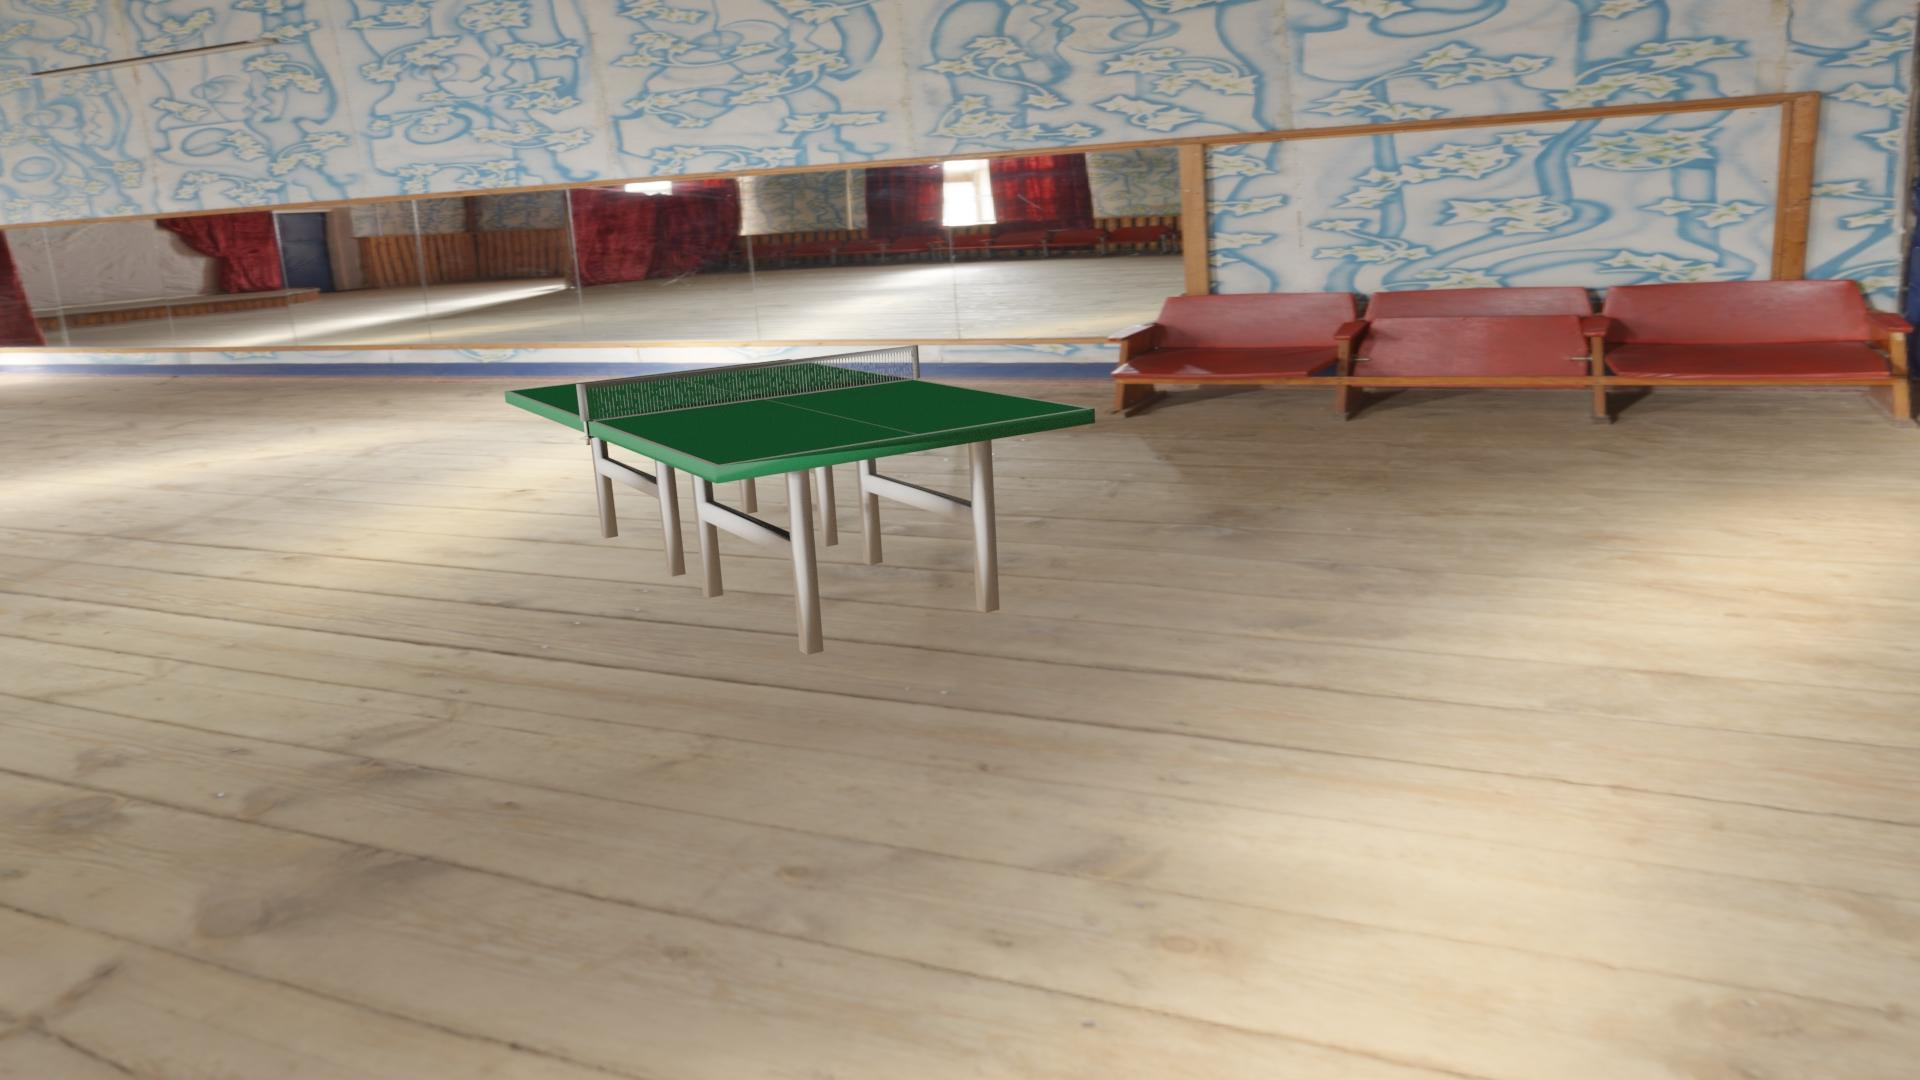table: (509, 359, 1088, 465)
